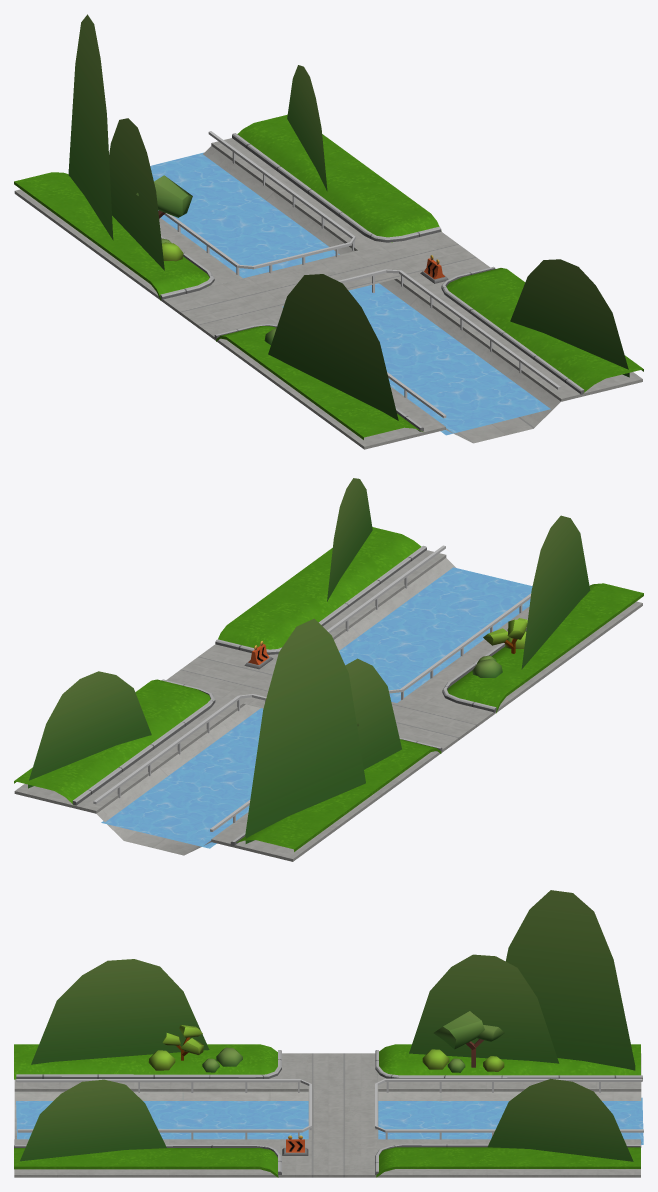
File: L1 Waterway V2.fbx
3 views of the same model, one above another, from view 1: azimuth 30°, elevation 25°; view 2: azimuth 150°, elevation 25°; view 3: azimuth 270°, elevation 25° (orthographic). The views are drawn at different scales.
Visible parts, largest first — view 1: pPlane1548, pasted__pasted__pCube5657, pCube13475, pCube13485, pCube13457, pasted__pasted__pCube5641, pasted__pasted__pCube5659, pCube13452, pCube13482, pCube13460, pasted__pasted__pCube5658, pCube13481 (+7 smaller); view 2: pPlane1548, pasted__pasted__pCube5659, pCube13475, pCube13485, pCube13452, pasted__pasted__pCube5642, pCube13481, pCube13457, pasted__pasted__pCube5657, pCube13482, pCube13460, pasted__pasted__pCube5658 (+7 smaller); view 3: pasted__pasted__pCube5659, pPlane1548, pasted__pasted__pCube5657, pasted__pasted__pCube5658, pCube13485, pasted__pasted__pCube5641, pasted__pasted__pCube5642, pCube13475, pCube13452, pCube13481, pCube13457, pCube13482 (+13 smaller).
Boxes of the visible parts, <box> form: pPlane1548: <box>150,152,550,435</box>; pasted__pasted__pCube5657: <box>268,274,398,420</box>; pCube13475: <box>14,189,445,449</box>; pCube13485: <box>211,138,642,401</box>; pCube13457: <box>237,114,441,242</box>; pasted__pasted__pCube5641: <box>510,259,629,377</box>; pasted__pasted__pCube5659: <box>68,14,113,240</box>; pCube13452: <box>446,268,643,393</box>; pCube13482: <box>203,146,560,443</box>; pCube13460: <box>14,172,209,300</box>; pasted__pasted__pCube5658: <box>109,118,164,270</box>; pCube13481: <box>216,326,422,439</box>; pPlane1548: <box>101,567,532,848</box>; pasted__pasted__pCube5659: <box>245,618,365,843</box>; pCube13475: <box>211,601,642,861</box>; pCube13485: <box>14,550,446,813</box>; pCube13452: <box>218,527,421,649</box>; pasted__pasted__pCube5642: <box>28,671,151,788</box>; pCube13481: <box>447,583,643,713</box>; pCube13457: <box>14,679,210,804</box>; pasted__pasted__pCube5657: <box>521,515,590,669</box>; pCube13482: <box>96,558,455,855</box>; pCube13460: <box>236,739,441,851</box>; pasted__pasted__pCube5658: <box>345,658,401,769</box>; pasted__pasted__pCube5659: <box>505,890,635,1070</box>; pPlane1548: <box>16,1097,643,1144</box>; pasted__pasted__pCube5657: <box>31,959,209,1064</box>; pasted__pasted__pCube5658: <box>409,954,559,1063</box>; pCube13485: <box>14,1139,640,1177</box>; pasted__pasted__pCube5641: <box>20,1079,166,1161</box>; pasted__pasted__pCube5642: <box>487,1079,633,1161</box>; pCube13475: <box>14,1053,641,1091</box>; pCube13452: <box>14,1148,278,1177</box>; pCube13481: <box>14,1044,277,1079</box>; pCube13457: <box>376,1147,640,1177</box>; pCube13482: <box>14,1091,641,1147</box>.
Size of the model in its own units: 12.28 by 9.2 by 26.69.
2 materials, 2 textured.
